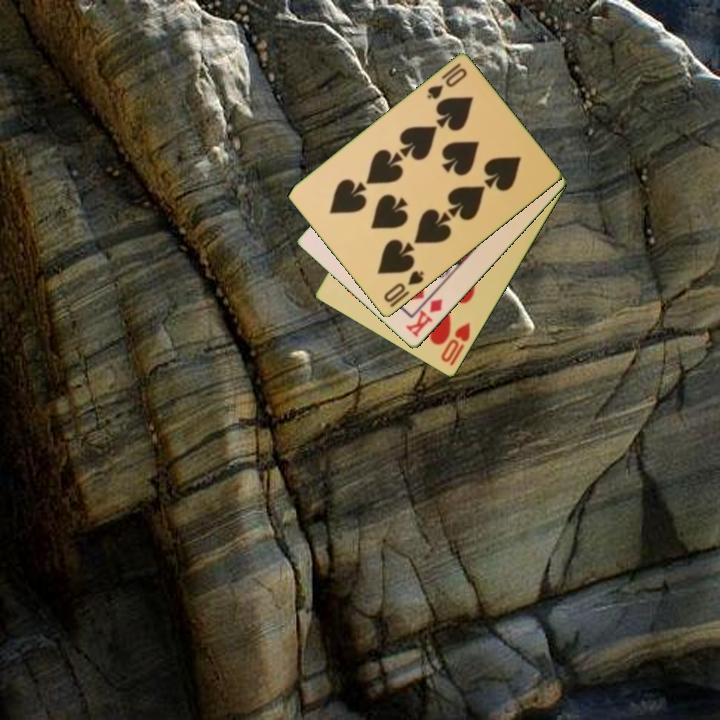10h: (437, 319, 474, 370)
10s: (423, 60, 470, 103), (380, 267, 427, 306)
Kd: (402, 295, 446, 341)
